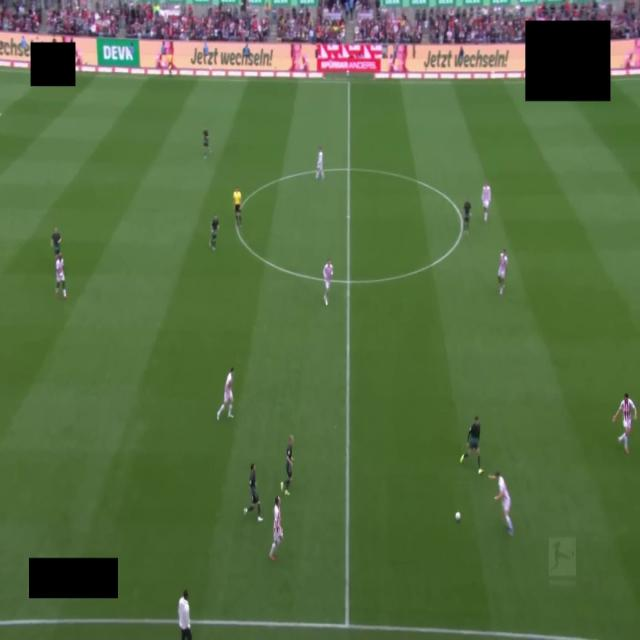ball: (455, 512, 460, 521)
player: (613, 393, 637, 454), (490, 472, 513, 535), (460, 416, 482, 474), (244, 464, 262, 521), (270, 496, 284, 561), (217, 368, 234, 420), (281, 435, 293, 495), (55, 254, 66, 299), (498, 249, 508, 295), (323, 261, 333, 305), (482, 183, 492, 222), (463, 198, 471, 235), (210, 216, 218, 251), (51, 228, 61, 255), (316, 147, 324, 180), (203, 129, 210, 159)
referee: (233, 187, 241, 227)
